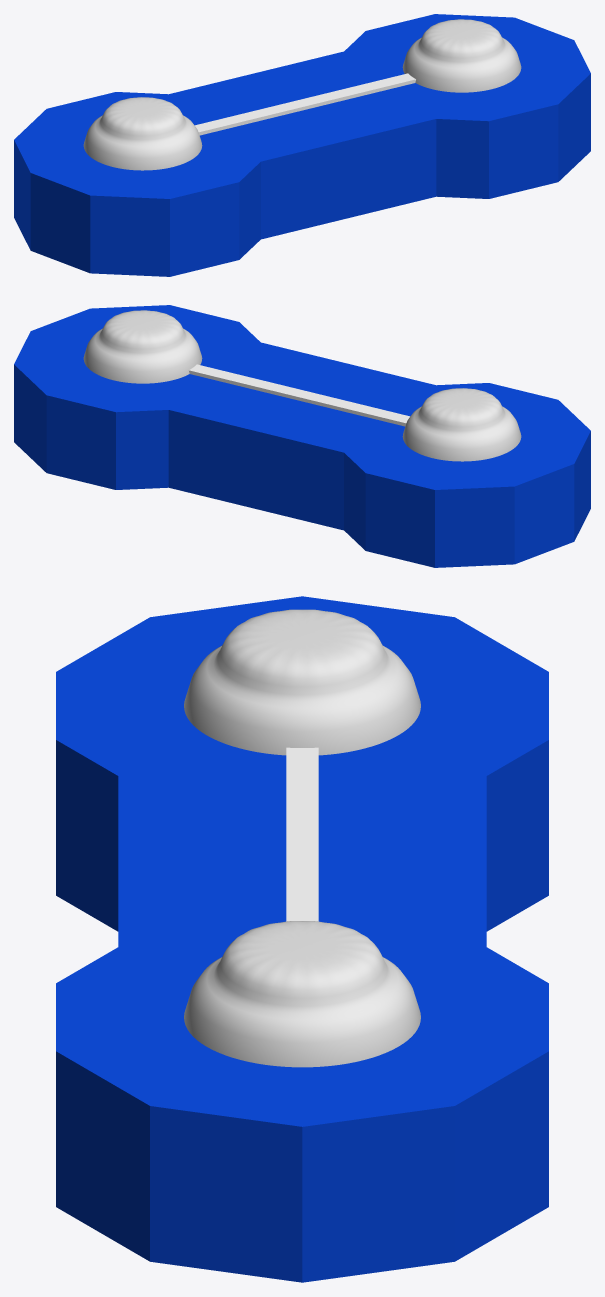
Rendered from 2BarConnector.fbx.
3 renders of one model, top to bottom at view 1: azimuth 30°, elevation 25°; view 2: azimuth 150°, elevation 25°; view 3: azimuth 270°, elevation 25°, orthographic. The views are drawn at different scales.
Visible parts, largest first — view 1: pCube1, pCylinder2, pCylinder1, pCylinder3, pCylinder4, pCube2; view 2: pCube1, pCylinder2, pCylinder1, pCylinder3, pCylinder4, pCube2; view 3: pCylinder1, pCube1, pCylinder2, pCylinder4, pCylinder3, pCube2.
Boxes of the visible parts, x1,y1,x2,y2 form: pCube1: (97, 34, 507, 239); pCylinder2: (14, 92, 267, 276); pCylinder1: (334, 14, 590, 198); pCylinder3: (83, 97, 202, 170); pCylinder4: (402, 19, 521, 92); pCube2: (195, 73, 415, 135); pCube1: (97, 325, 507, 530); pCylinder2: (344, 383, 590, 567); pCylinder1: (14, 305, 264, 489); pCylinder3: (402, 388, 521, 461); pCylinder4: (83, 310, 202, 383); pCube2: (189, 364, 409, 426); pCylinder1: (56, 912, 548, 1282); pCube1: (118, 706, 486, 1017); pCylinder2: (56, 596, 548, 931); pCylinder4: (184, 921, 420, 1067); pCylinder3: (184, 609, 420, 755); pCube2: (286, 747, 318, 921).
Bounding box in the file's own units: 3.41 × 0.7857 × 1.34.
